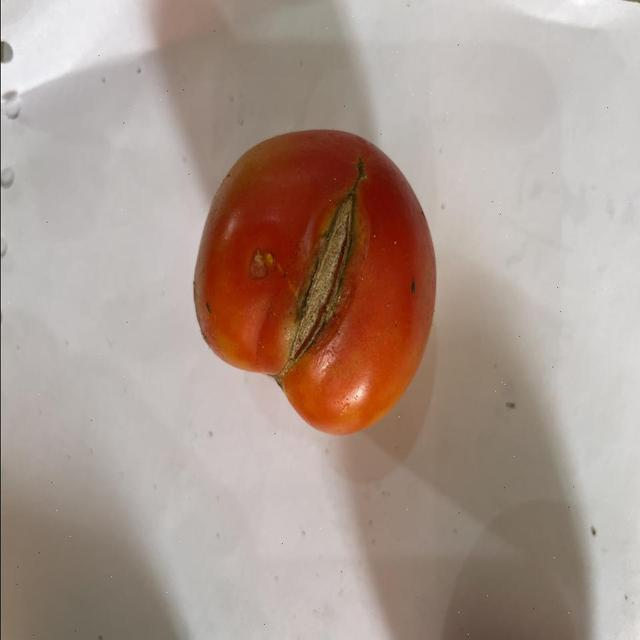Cracking Fruit: (114, 120, 354, 234)
